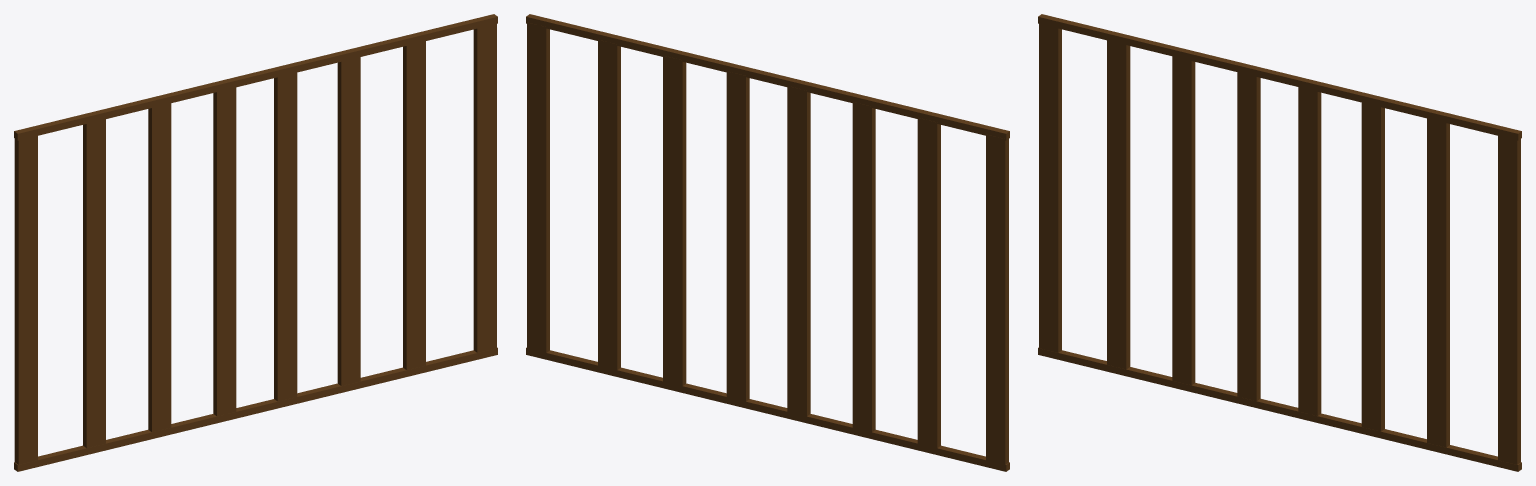
The model's file is WoodenRailing.fbx.
3 views of the same model, side by side, from view 1: azimuth 30°, elevation 25°; view 2: azimuth 150°, elevation 25°; view 3: azimuth 330°, elevation 25° (orthographic).
Parts seen in each view (by area): view 1: WoodenRailing; view 2: WoodenRailing; view 3: WoodenRailing.
Part boxes in pixels (x1,y1,x2,y2): WoodenRailing: [14, 14, 497, 471]; WoodenRailing: [526, 14, 1009, 471]; WoodenRailing: [1038, 14, 1521, 471].
Size of the model in its own units: 1.53 by 1.03 by 0.021.
